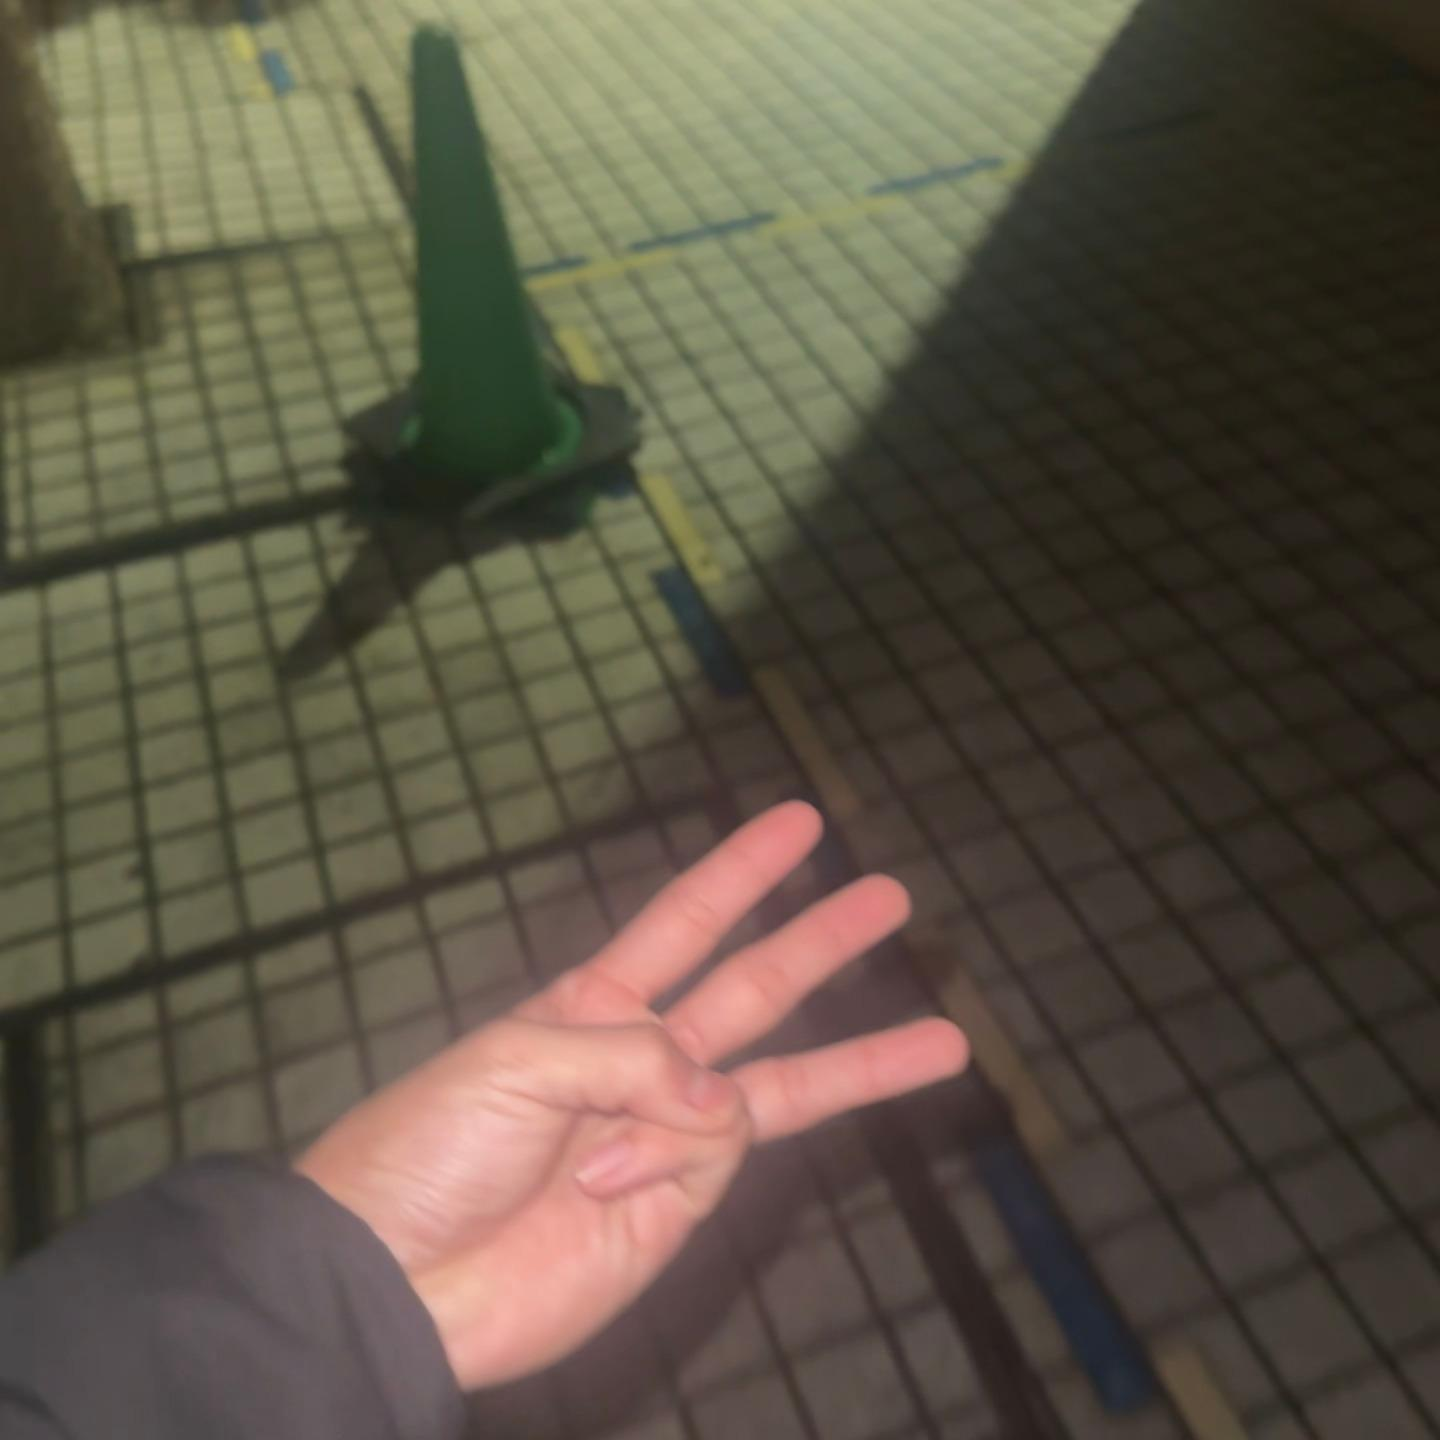without_gloves: (301, 684, 1233, 1389)
